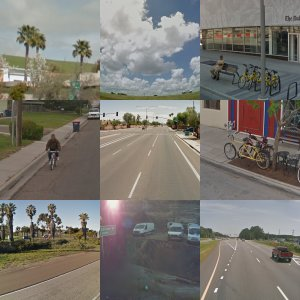公車: (111, 1, 195, 60), (3, 18, 84, 65), (6, 234, 53, 272)
汽車: (239, 100, 299, 123), (138, 155, 179, 186), (223, 71, 276, 89), (21, 172, 43, 191)
紅綠燈: (124, 202, 148, 241), (109, 200, 120, 218)
